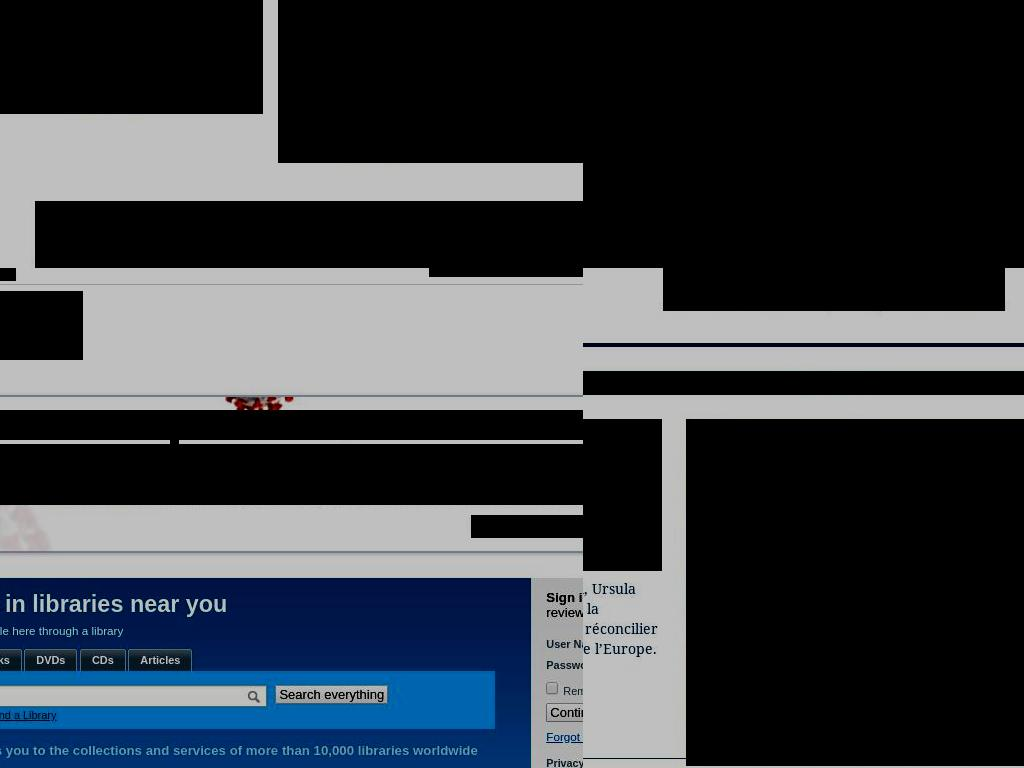button: (686, 419, 1024, 766), (278, 0, 583, 163), (0, 0, 263, 114), (663, 268, 1005, 311), (583, 419, 662, 571), (128, 650, 193, 671), (24, 650, 78, 671), (80, 650, 126, 671), (0, 650, 22, 671)
field: (0, 684, 268, 707), (275, 684, 389, 704), (546, 703, 583, 722), (546, 682, 560, 695)
heading: (278, 0, 583, 76), (0, 588, 496, 619), (0, 0, 253, 48), (583, 419, 662, 571), (0, 742, 478, 758), (0, 623, 124, 637)
iframe: (35, 201, 583, 268)
image: (583, 0, 1024, 268), (686, 419, 1024, 766), (0, 465, 583, 616), (663, 268, 1005, 311), (213, 396, 304, 552), (0, 291, 83, 360), (429, 419, 443, 433), (170, 435, 179, 444), (273, 419, 282, 428), (342, 435, 347, 440), (511, 419, 516, 424)
label: (546, 638, 583, 650), (546, 659, 583, 671)
link: (0, 444, 583, 482), (17, 490, 164, 505), (129, 649, 192, 670), (25, 649, 77, 670), (81, 649, 125, 670), (0, 708, 57, 721), (506, 467, 543, 482), (546, 730, 583, 743), (0, 649, 21, 670)
text: (278, 78, 583, 163), (0, 467, 583, 505), (0, 410, 583, 440), (0, 50, 253, 114), (583, 371, 1024, 395), (0, 444, 566, 459), (0, 467, 507, 482), (163, 490, 583, 505), (583, 579, 658, 658), (471, 515, 583, 538), (429, 268, 583, 277), (546, 590, 583, 605), (546, 757, 583, 768)
